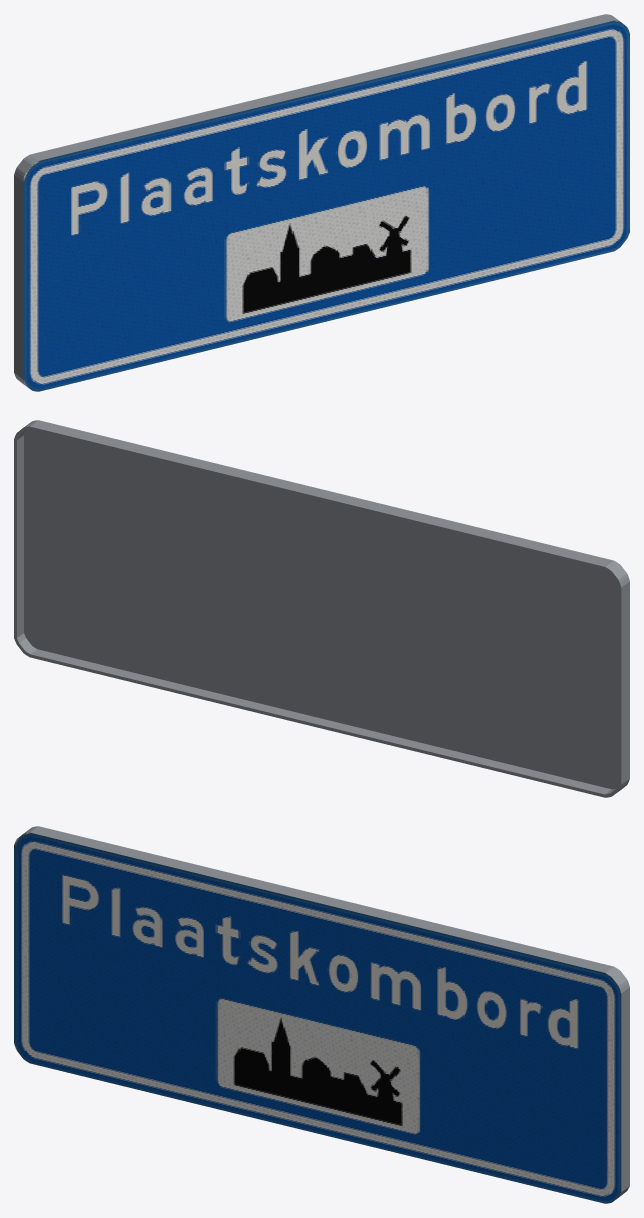
3 renders of one model, top to bottom at view 1: azimuth 30°, elevation 25°; view 2: azimuth 150°, elevation 25°; view 3: azimuth 330°, elevation 25°, orthographic.
Parts seen in each view (by area): view 1: cat_cee62cc977eca352; view 2: cat_cee62cc977eca352; view 3: cat_cee62cc977eca352.
Part boxes in pixels (left/top/right/bottom): cat_cee62cc977eca352: left=14, top=14, right=629, bottom=391; cat_cee62cc977eca352: left=14, top=420, right=629, bottom=797; cat_cee62cc977eca352: left=14, top=826, right=629, bottom=1203.
Size of the model in its own units: 0.6 by 0.015 by 0.2179.
2 materials, 1 textured.
